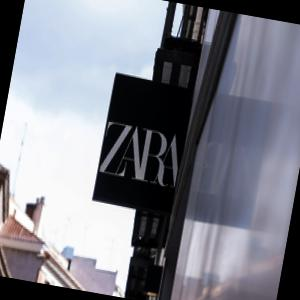zara: (94, 117, 188, 197)
